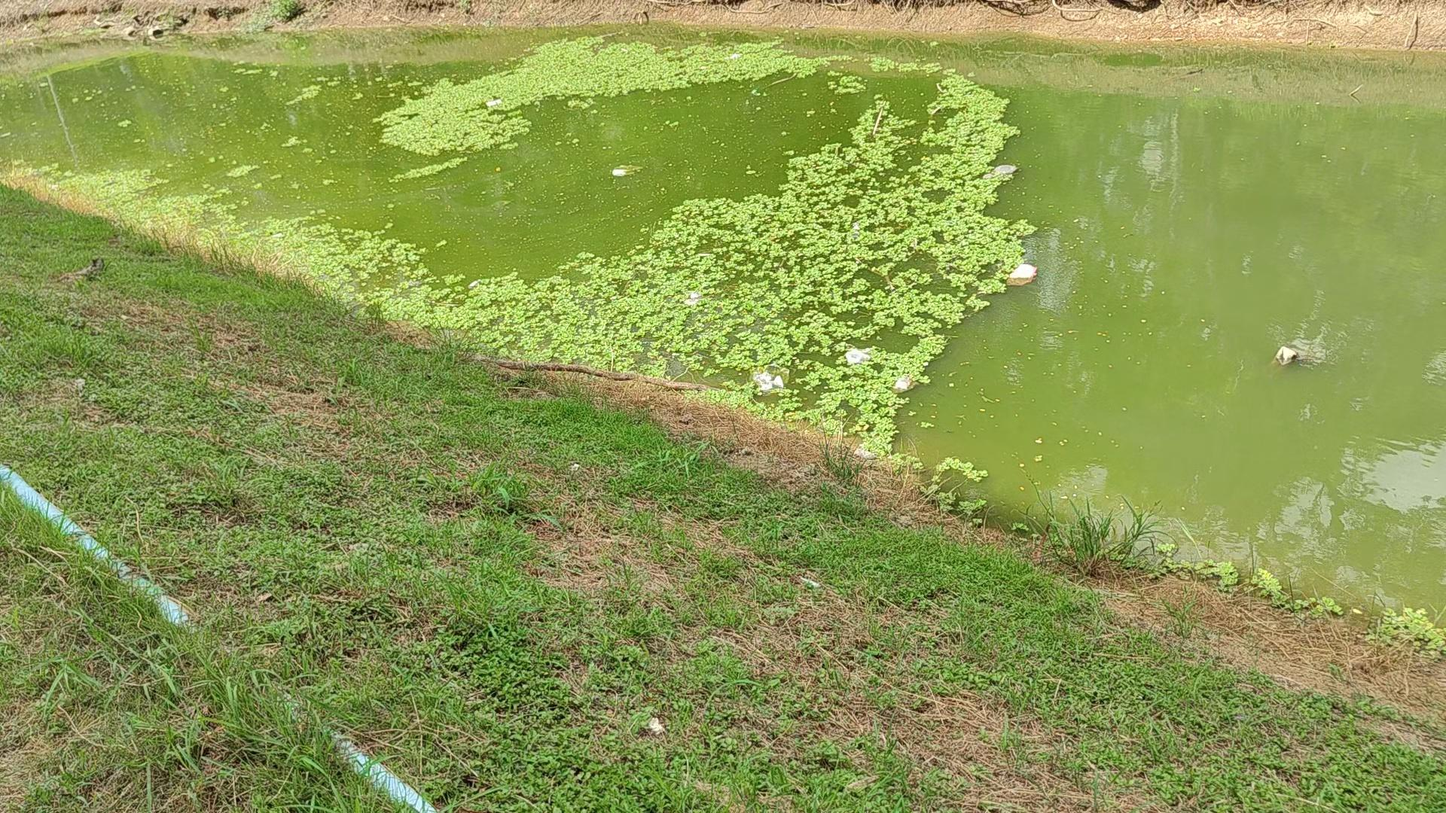trash: (1008, 263, 1037, 285), (754, 372, 783, 391), (1274, 346, 1298, 365), (846, 349, 871, 364), (894, 375, 914, 392), (612, 165, 640, 176), (993, 164, 1017, 175), (685, 292, 701, 305), (487, 99, 502, 107), (728, 53, 740, 59)
